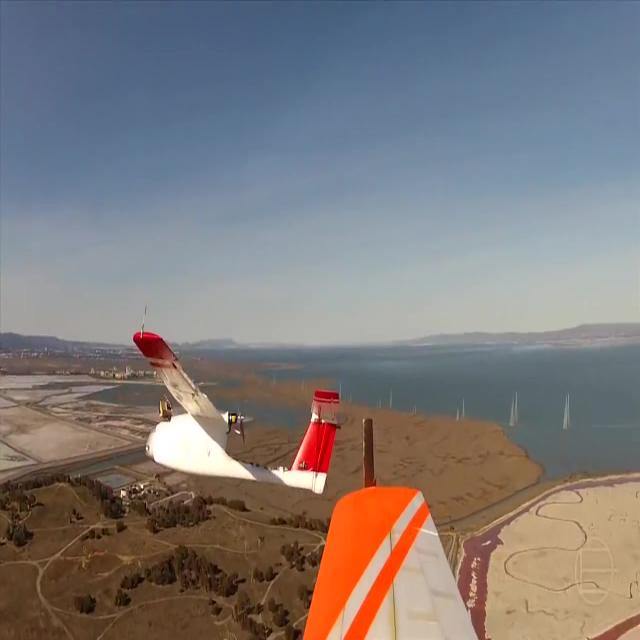iha: (132, 328, 342, 497)
